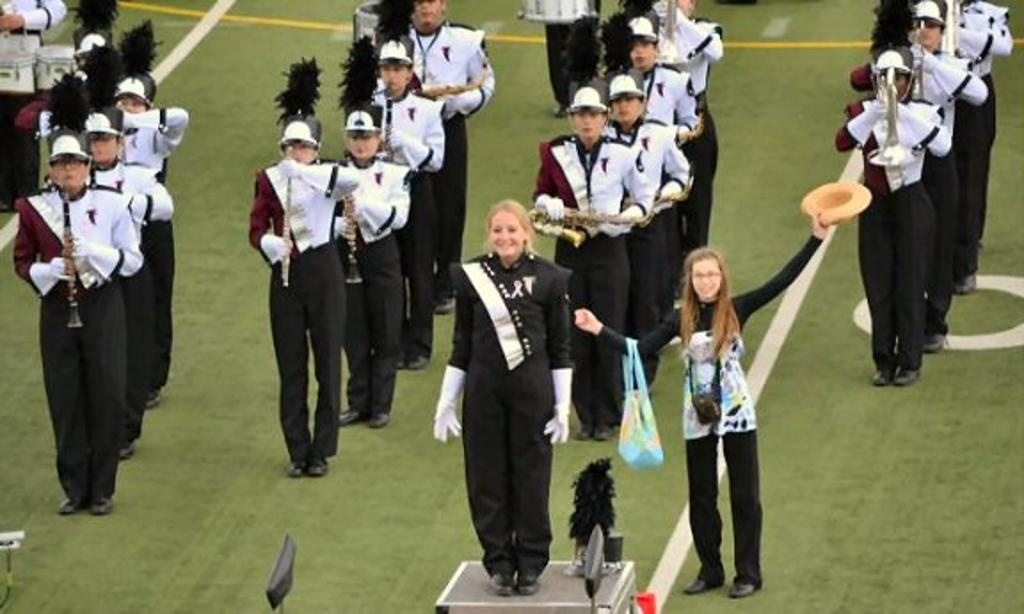human_face: (489, 211, 525, 257), (690, 259, 720, 297), (52, 153, 84, 187), (380, 57, 408, 91), (346, 128, 376, 158), (574, 106, 602, 138), (116, 93, 144, 123), (284, 138, 314, 166), (878, 66, 906, 96), (88, 131, 114, 161), (628, 36, 654, 66), (610, 95, 640, 120), (911, 20, 939, 44), (412, 1, 440, 23)
